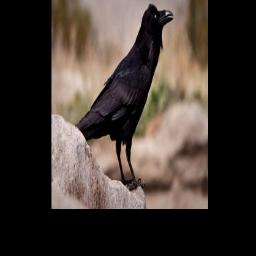Crow: (73, 0, 175, 187)
